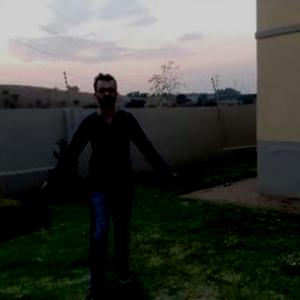land: (36, 71, 176, 287)
